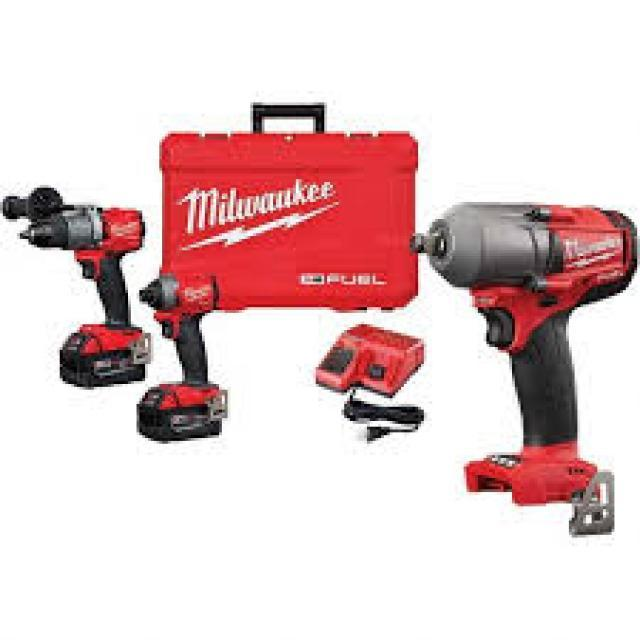drill: (407, 190, 640, 512), (14, 202, 152, 393), (127, 267, 239, 450)
